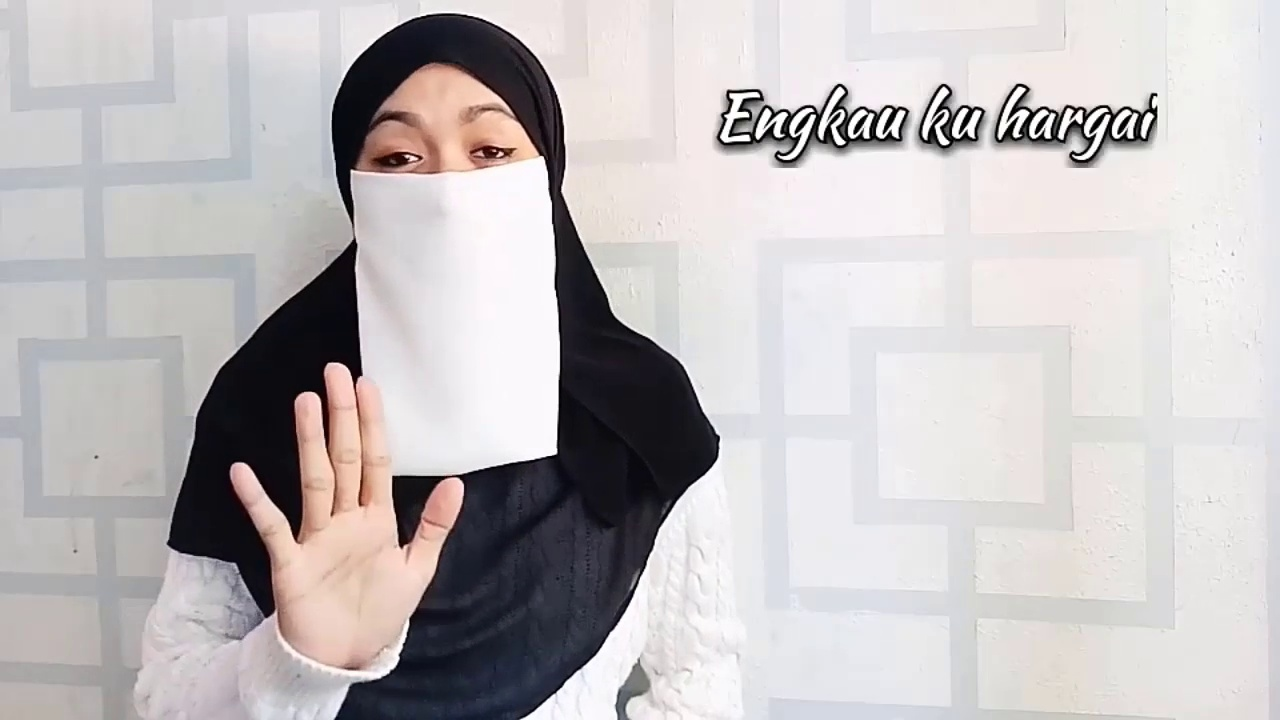ENGKAU: (136, 328, 534, 720)
